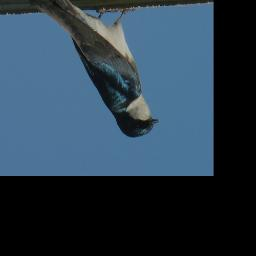Swallow: (27, 0, 160, 139)
